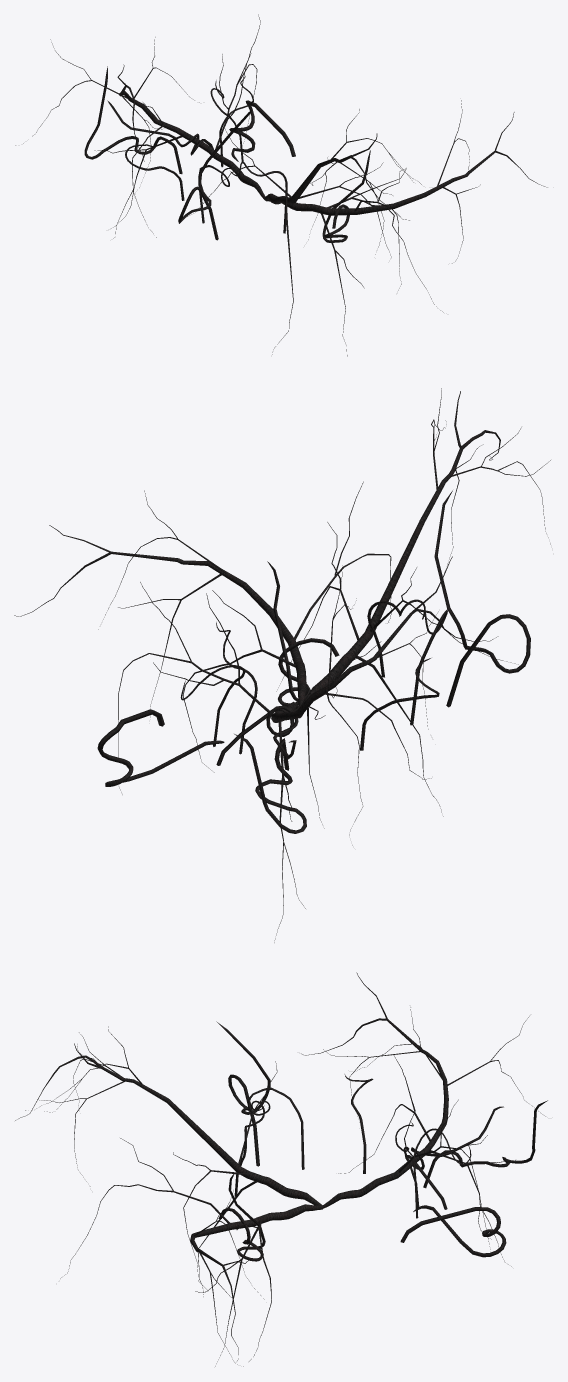
File: Bush 1.fbx
3 views of the same model, one above another, from view 1: azimuth 30°, elevation 25°; view 2: azimuth 150°, elevation 25°; view 3: azimuth 270°, elevation 25° (orthographic). The views are drawn at different scales.
Parts seen in each view (by area): view 1: LOD0; view 2: LOD0; view 3: LOD0.
Part boxes in pixels (x1,y1,x2,y2): LOD0: (15, 14, 547, 356); LOD0: (14, 388, 550, 942); LOD0: (15, 972, 547, 1366).
Bounding box in the file's own units: 602 × 431 × 654.
1 material, 1 textured.
